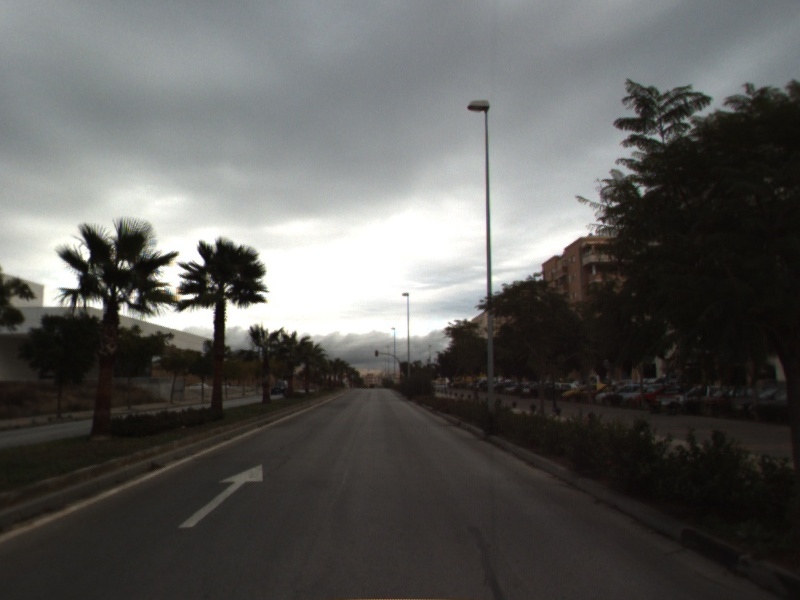STRAIGHT: (176, 462, 265, 530)
